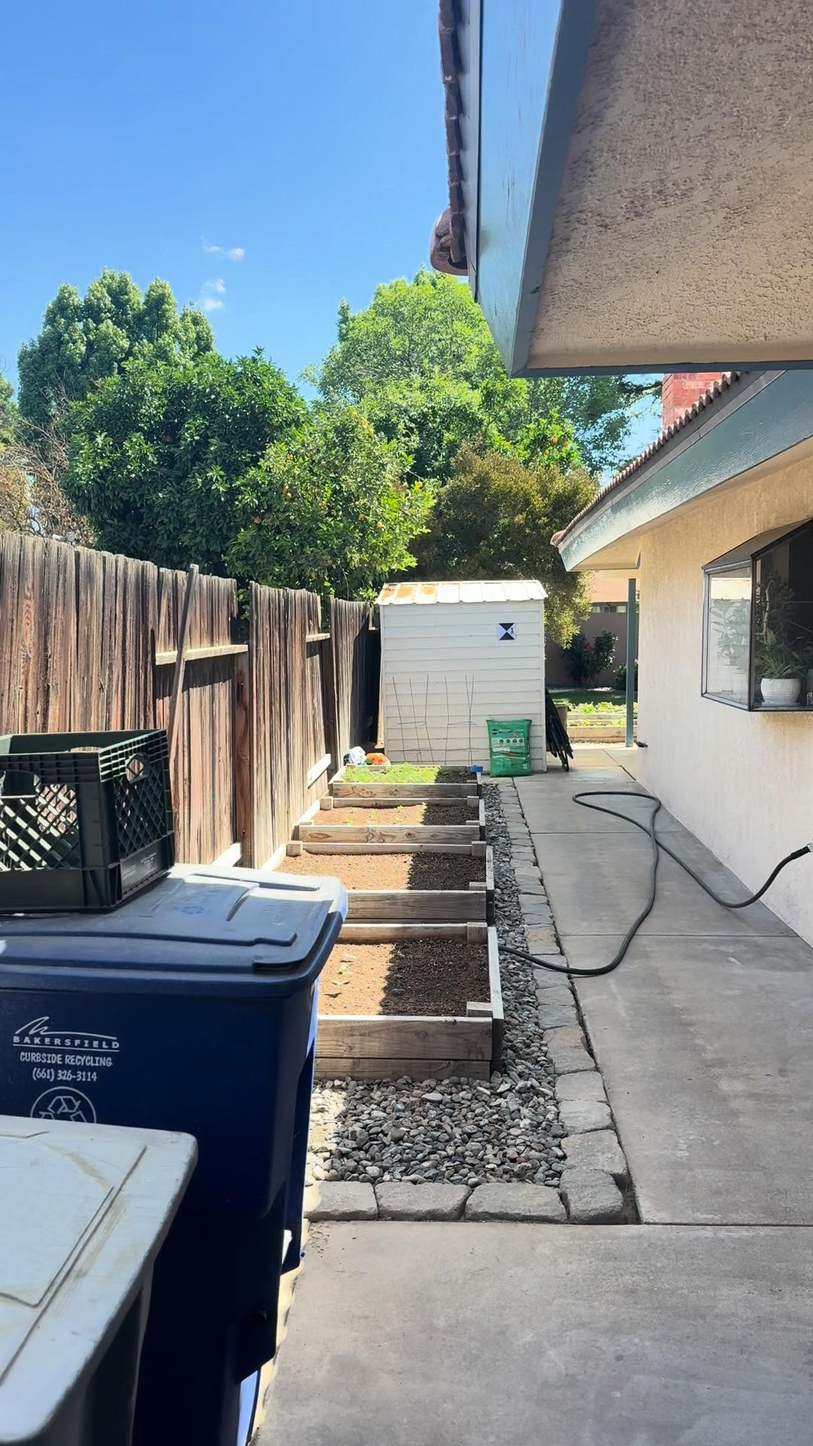target1: (495, 620, 517, 642)
